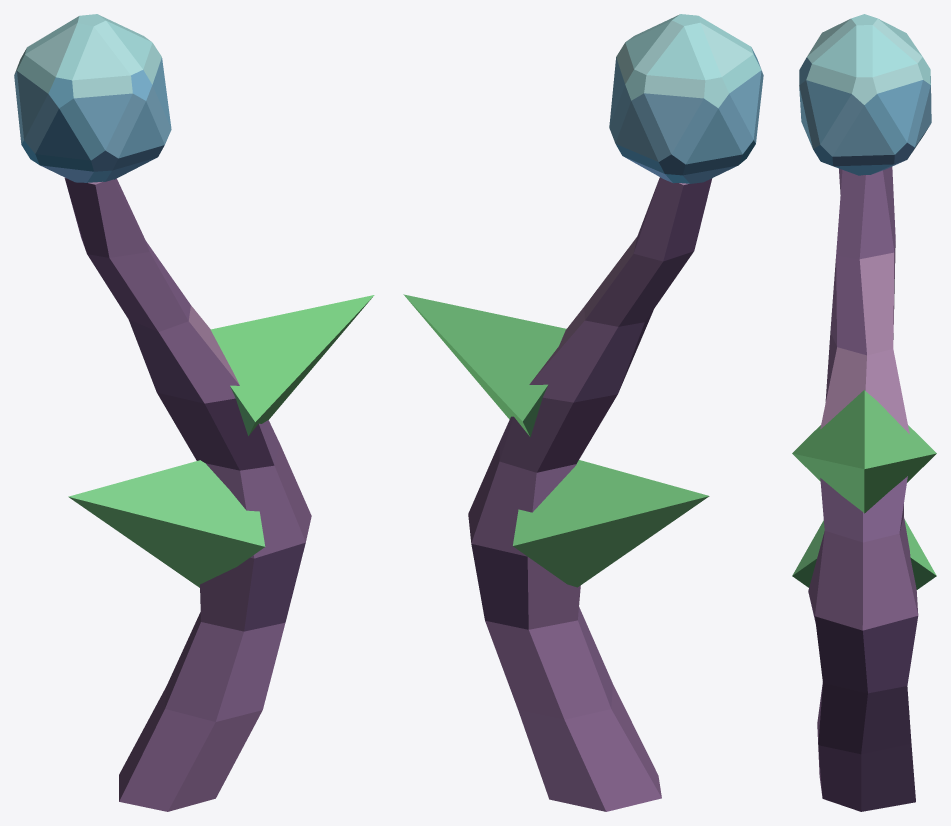
File: Enchanted_Branch.glb
3 views of the same model, side by side, from view 1: azimuth 30°, elevation 25°; view 2: azimuth 150°, elevation 25°; view 3: azimuth 270°, elevation 25° (orthographic). The views are drawn at different scales.
Parts seen in each view (by area): view 1: Enchanted_Branch, Branch_Gem, Branch_Leaf_L, Branch_Leaf_R; view 2: Enchanted_Branch, Branch_Gem, Branch_Leaf_L, Branch_Leaf_R; view 3: Enchanted_Branch, Branch_Gem, Branch_Leaf_R, Branch_Leaf_L.
Part boxes in pixels (box(x1,y1,x2,y2)): Enchanted_Branch: box(64, 177, 311, 811); Branch_Gem: box(14, 14, 171, 182); Branch_Leaf_L: box(68, 460, 265, 587); Branch_Leaf_R: box(210, 295, 374, 435); Enchanted_Branch: box(468, 177, 712, 811); Branch_Gem: box(609, 14, 763, 183); Branch_Leaf_L: box(513, 460, 709, 587); Branch_Leaf_R: box(403, 294, 566, 436); Enchanted_Branch: box(808, 167, 918, 811); Branch_Gem: box(799, 14, 931, 175); Branch_Leaf_R: box(792, 390, 936, 513); Branch_Leaf_L: box(792, 519, 936, 589).
Size of the model in its own units: 0.2081 by 0.4464 by 0.08.
